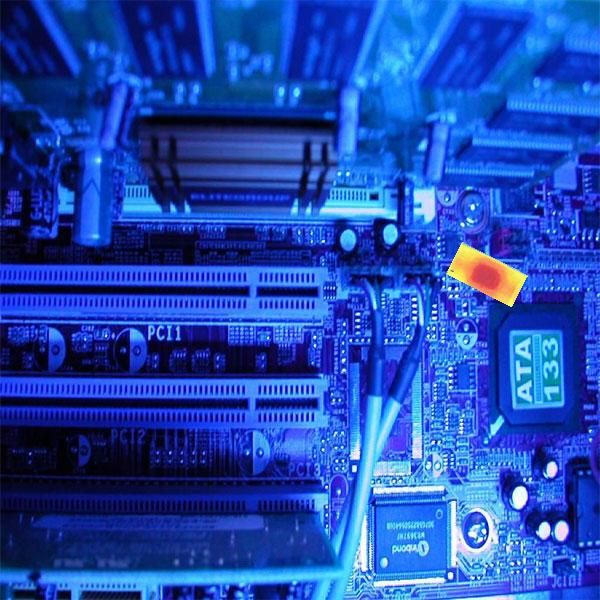componente_T: (441, 241, 533, 310)
